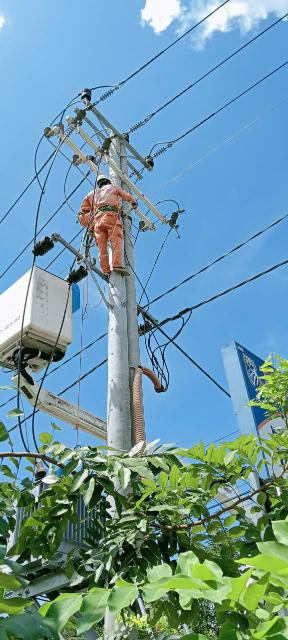harness: (86, 201, 123, 218), (72, 207, 91, 216)
helmet: (92, 171, 115, 189)
shoes: (112, 262, 132, 278), (99, 267, 110, 279)
